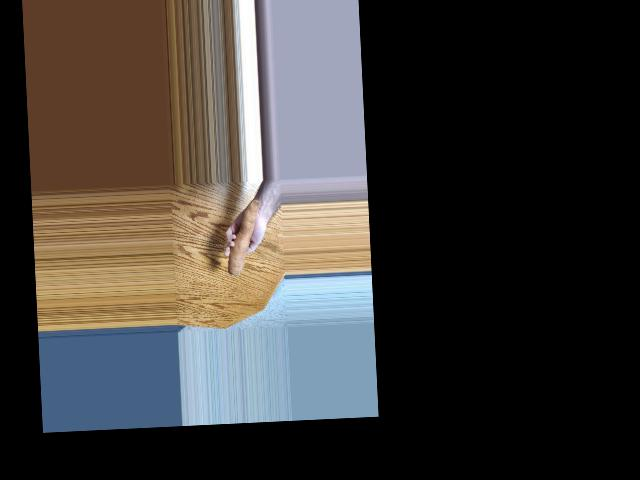sweet_potato: (223, 201, 263, 276)
